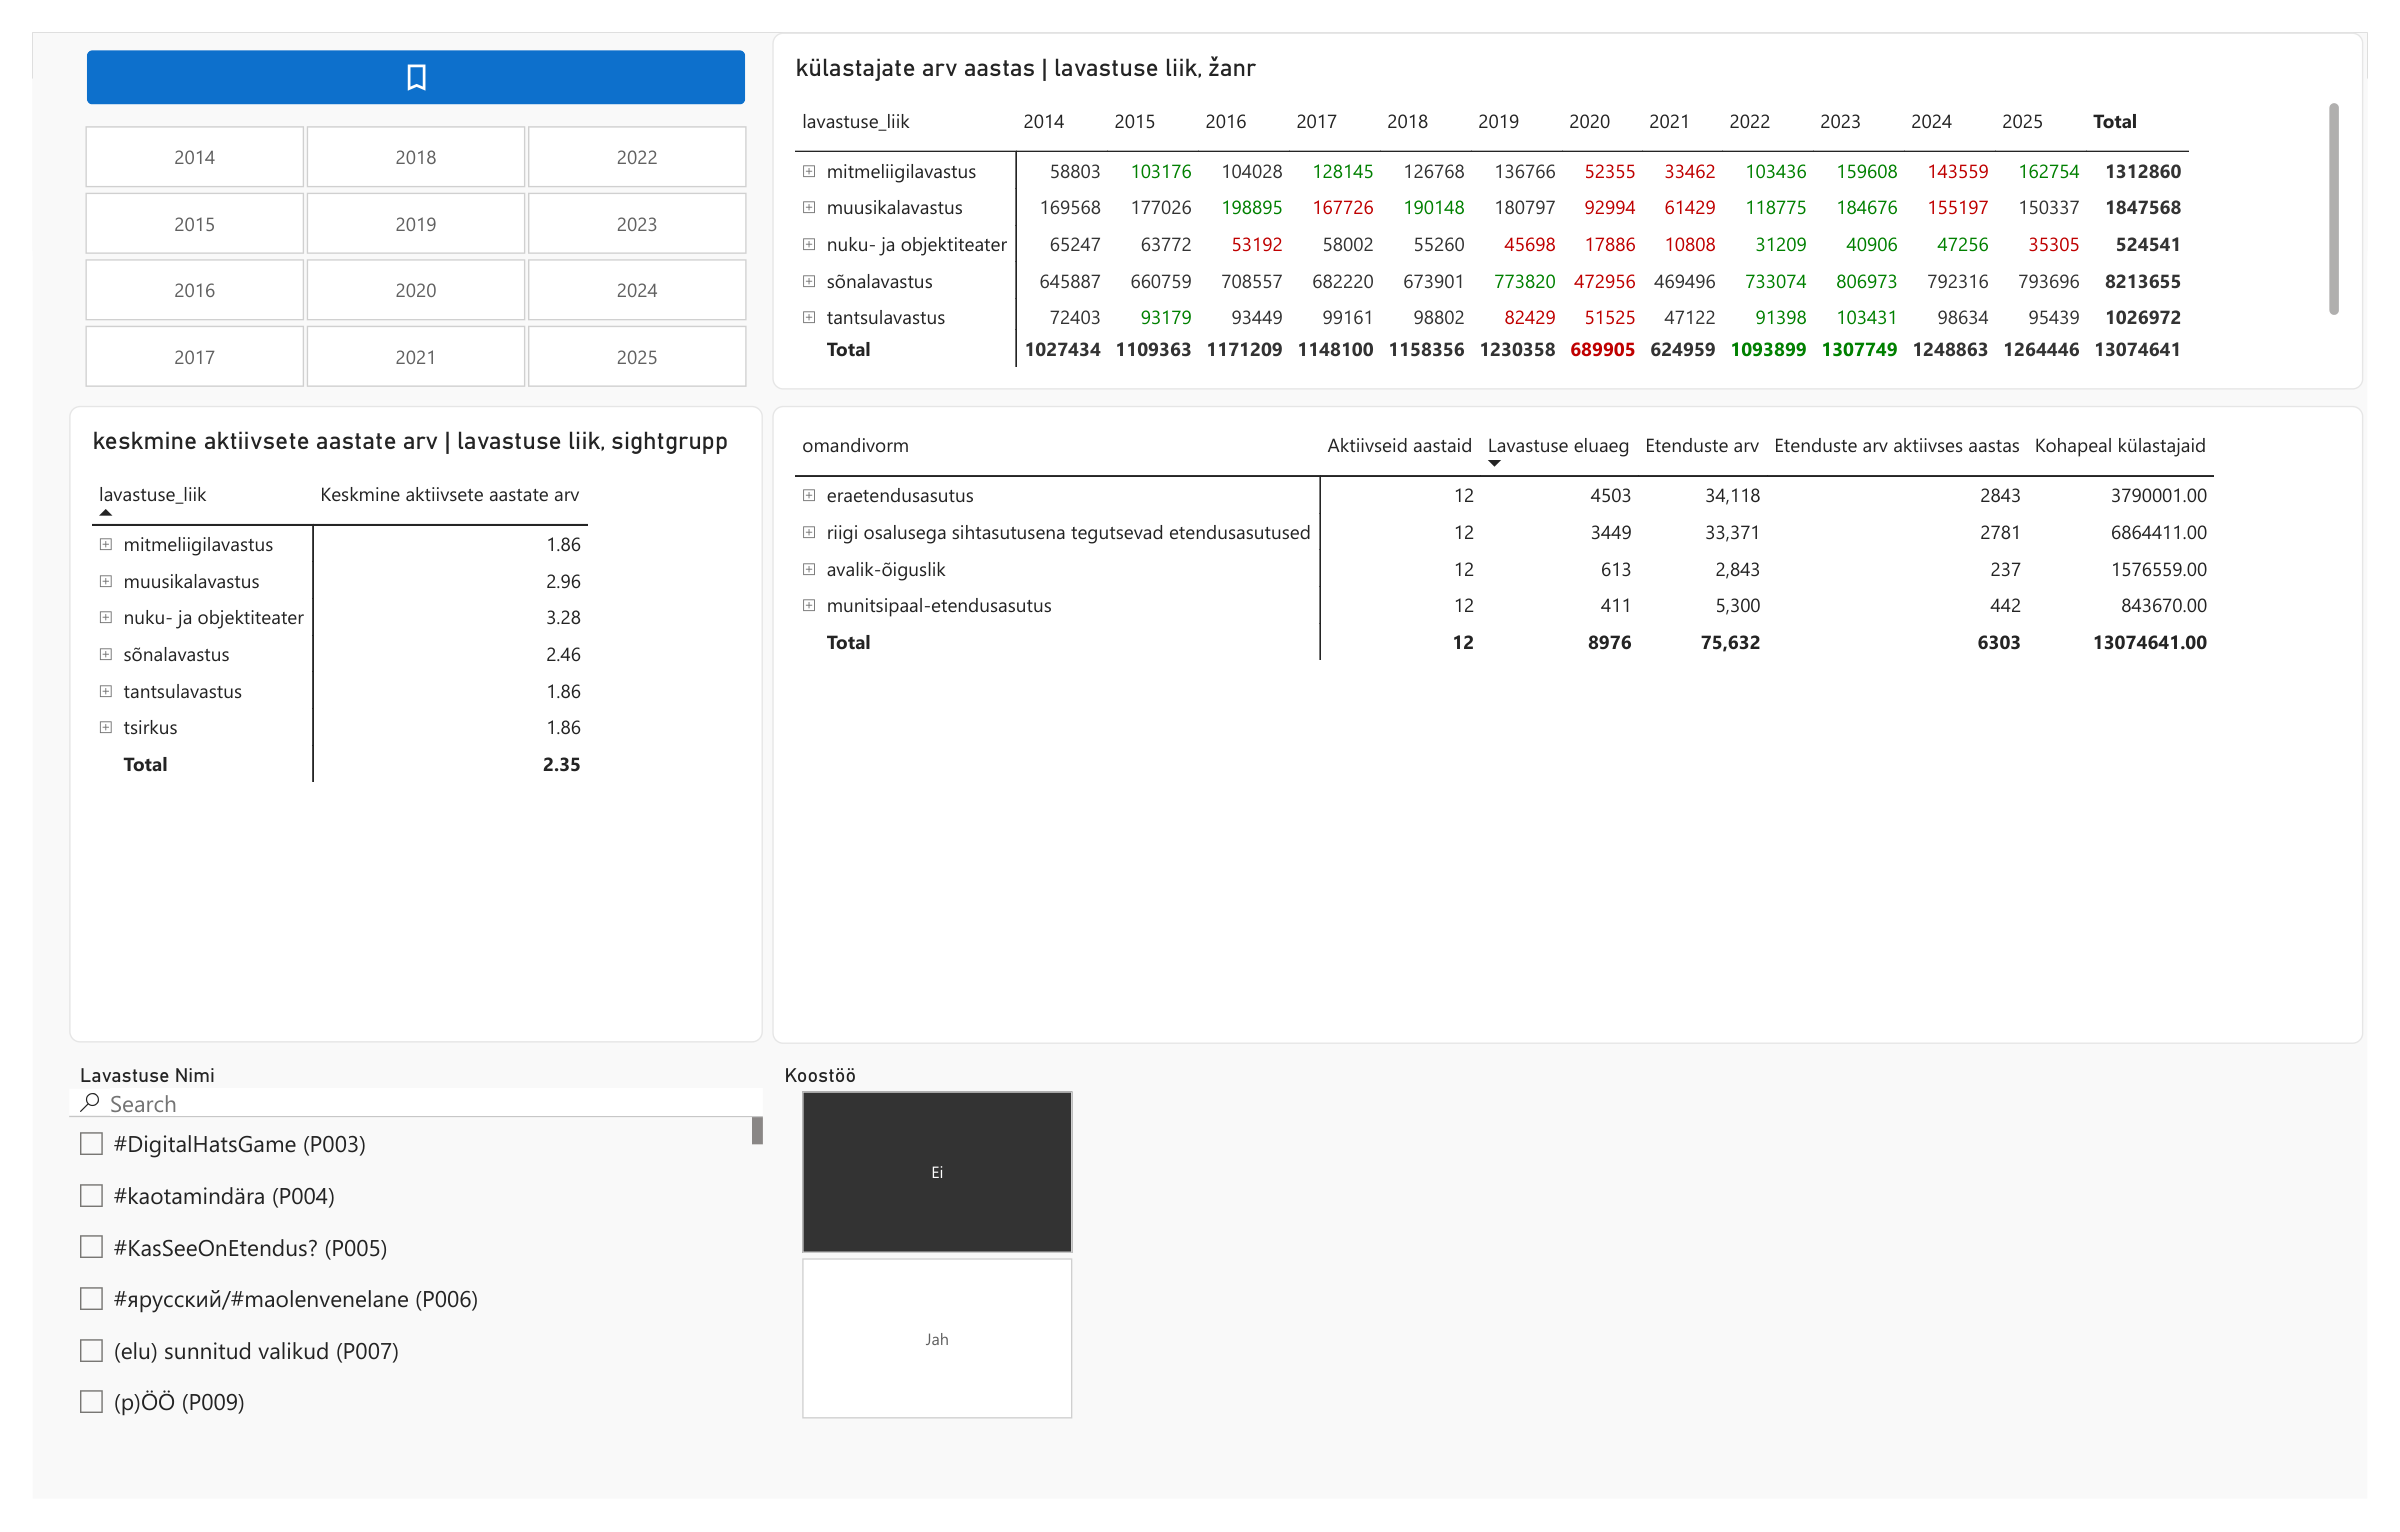

The dashboard page shown, as its layout file describes it:
{"tool":"powerbi","page":{"name":"Lavastuste tabelid","canvas":[1720,1080],"ordinal":3},"visuals":[{"type":"pivotTable","title":"keskmine aktiivsete aastate arv | lavastuse liik, sightgrupp","fields":{"Rows":["dim_lavastused.lavastuse_liik","dim_lavastused.sihtgrupp"],"Values":["H_measures.Keskmine aktiivsete aastate arv"]},"box":[26.7,275,511.2,468.8],"z":0},{"type":"pivotTable","title":"külastajate arv aastas | lavastuse liik, žanr","fields":{"Columns":["dim_aeg.aasta"],"Rows":["dim_lavastused.lavastuse_liik","dim_lavastused.zhanr"],"Values":["Sum(fact_repertuaar.kylastajaid_kohapeal)"]},"box":[545,0,1171.7,263.3],"z":1000},{"type":"slicer","fields":{"Values":["dim_aeg.aasta"]},"box":[18.3,66.7,526.7,196.7],"z":2000},{"type":"actionButton","box":[40,13.3,485,40],"z":3000},{"type":"pivotTable","fields":{"Rows":["dim_teater.omandivorm","dim_lavastused.Lavastuse Nimi"],"Values":["H_measures.Aktiivseid aastaid","H_measures.Lavastuste kestvus kokku","H_measures.Etenduste Arv","H_measures.Etenduste arv aktiivses aastas","H_measures.Kohapeal Külastajaid"]},"box":[545,275,1171.7,470],"z":4000},{"type":"slicer","fields":{"Values":["dim_lavastused.Lavastuse Nimi"]},"box":[26.7,760,511.7,263.3],"z":5000},{"type":"slicer","fields":{"Values":["dim_lavastused.Koostöö"]},"box":[545.6,760.3,239.6,263],"z":7000}]}

Visuals, with their boxes in screenshot pixels (x1, y1, x2, y2), scaled from the page's 1720x1080 canvas onto the 2400x1532 screenshot:
"keskmine aktiivsete aastate arv | lavastuse liik, sightgrupp" pivotTable: <region>37, 390, 751, 1055</region>
"külastajate arv aastas | lavastuse liik, žanr" pivotTable: <region>760, 0, 2395, 373</region>
slicer - dim_aeg.aasta: <region>26, 95, 760, 374</region>
actionButton: <region>56, 19, 733, 76</region>
pivotTable - dim_teater.omandivorm x dim_lavastused.Lavastuse Nimi: <region>760, 390, 2395, 1057</region>
slicer - dim_lavastused.Lavastuse Nimi: <region>37, 1078, 751, 1452</region>
slicer - dim_lavastused.Koostöö: <region>761, 1078, 1096, 1452</region>
